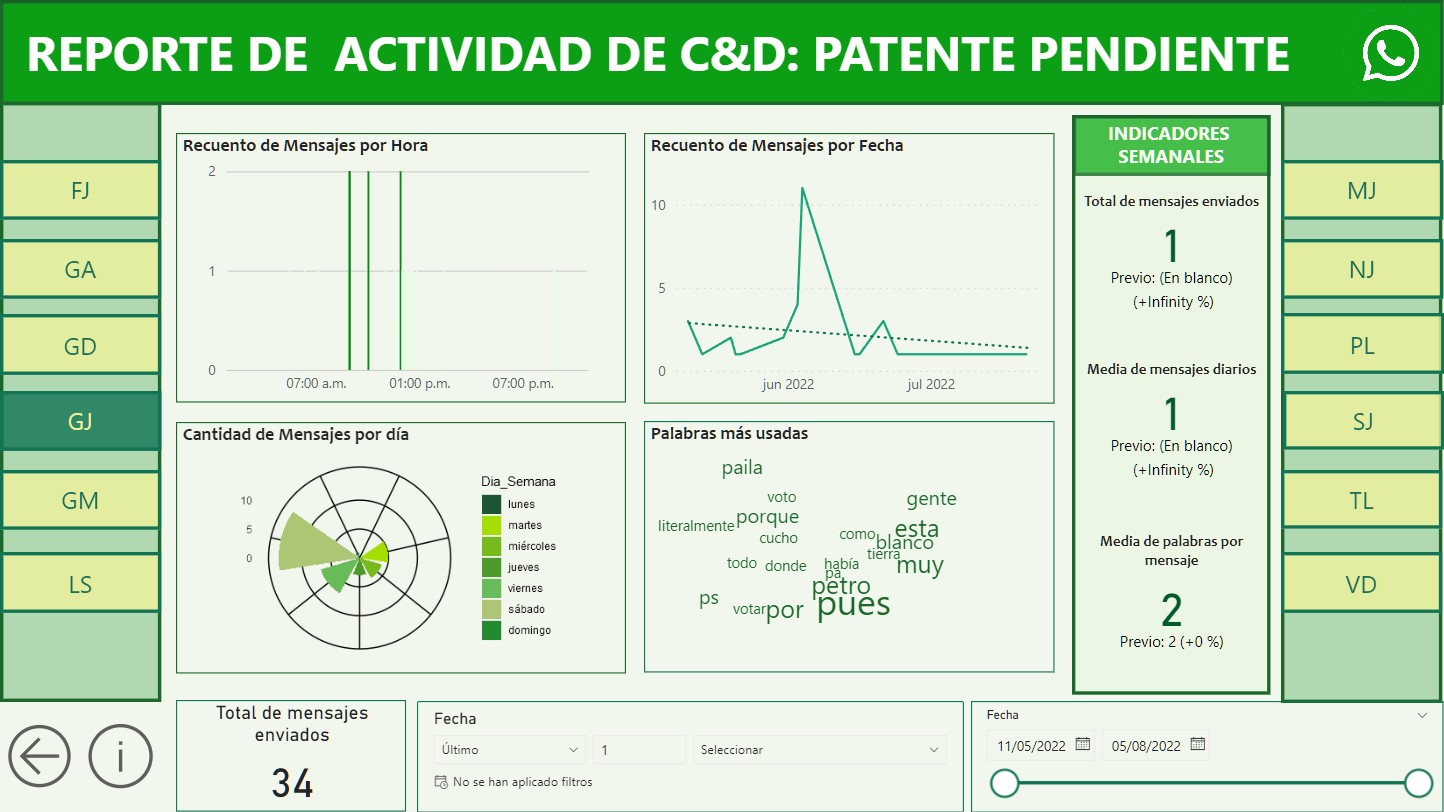

The page's visual inventory and layout, read from the dashboard file:
{"tool":"powerbi","page":{"name":"GJ","canvas":[1280,720],"ordinal":4},"visuals":[{"type":"shape","box":[0,112.6,199.5,523.2],"z":0},{"type":"shape","box":[0,0,1280,118.7],"z":1000},{"type":"image","box":[1167.2,5.8,112.8,106],"z":2000},{"type":"textbox","box":[0,24.3,1167.2,69.1],"z":3000},{"type":"shape","box":[1080,112.6,199.5,523.2],"z":4000},{"type":"slicer","fields":{"Values":["whatsapp_chat mychats.Fecha"]},"box":[419.4,635.8,440.7,85.1],"z":5000},{"type":"columnChart","title":"Recuento de Mensajes por Hora","fields":{"Category":["whatsapp_chat mychats.Hora"],"Y":["CountNonNull(whatsapp_chat mychats.Indice)"]},"box":[640.2,118.8,439.8,275.8],"z":6000},{"type":"donutChart","title":"Proporción de Sentimiento por Mensajes","fields":{"Category":["whatsapp_chat mychats.Sentimiento"],"Y":["CountNonNull(whatsapp_chat mychats.Indice)"]},"box":[199.5,394.6,440.7,241.2],"z":7000},{"type":"lineChart","title":"Recuento de Mensajes por Fecha","fields":{"Y":["CountNonNull(whatsapp_chat mychats.Indice)"],"Category":["whatsapp_chat mychats.Fecha"]},"box":[200.4,118.8,439.8,275.8],"z":8000},{"type":"actionButton","box":[0,518.7,199.5,53.2],"z":9000},{"type":"actionButton","box":[0,445.1,199.5,53.2],"z":10000},{"type":"actionButton","box":[0,374.2,199.5,53.2],"z":11000},{"type":"actionButton","box":[0,306.8,199.5,53.2],"z":12000},{"type":"actionButton","box":[0,239.4,199.5,53.2],"z":13000},{"type":"actionButton","box":[0,169.4,199.5,53.2],"z":14000},{"type":"actionButton","box":[1080.4,518.7,199.5,53.2],"z":15000},{"type":"actionButton","box":[1080.4,445.1,199.5,53.2],"z":16000},{"type":"actionButton","box":[1080.4,374.2,199.5,53.2],"z":17000},{"type":"actionButton","box":[1080.4,306.8,199.5,53.2],"z":18000},{"type":"actionButton","box":[1080.4,239.4,199.5,53.2],"z":19000},{"type":"actionButton","box":[1080.4,169.4,199.5,53.2],"z":20000},{"type":"WordCloud1447959067750","title":"Palabras más usadas","fields":{"Category":["whatsapp_chat mychats.Mensaje"],"Values":["CountNonNull(whatsapp_chat mychats.Indice)"]},"box":[640,394.7,315.2,241.4],"z":21000},{"type":"actionButton","box":[113.1,636.2,86.2,83.4],"z":22000},{"type":"card","title":"Total de mensajes enviados","fields":{"Values":["CountNonNull(whatsapp_chat mychats.Indice)"]},"box":[199.5,635.8,220.8,84.2],"z":23000},{"type":"actionButton","box":[0,638.1,75.7,80.5],"z":24000},{"type":"slicer","fields":{"Values":["whatsapp_chat mychats.Fecha"]},"box":[860.4,635.7,418.7,84.3],"z":25000},{"type":"card","title":"Media de Palabras por Mensaje","fields":{"Values":["Tabla_Medidas.Media_Palabras_Por_Mensaje"]},"box":[954.1,394.6,125,120.6],"z":25001},{"type":"card","title":"Total de Palabras enviadas","fields":{"Values":["Sum(whatsapp_chat mychats.Cantidad_Palabras)"]},"box":[953.2,515.2,125.9,120.6],"z":25002}]}

Visuals, with their boxes in screenshot pixels (x1, y1, x2, y2), scaled from the page's 1280x720 canvas onto the 1444x812 screenshot:
shape: 0 127 225 717
shape: 0 0 1443 134
image: 1317 7 1443 126
textbox: 0 27 1317 105
shape: 1218 127 1443 717
slicer - whatsapp_chat mychats.Fecha: 473 717 970 811
"Recuento de Mensajes por Hora" columnChart: 722 134 1218 445
"Proporción de Sentimiento por Mensajes" donutChart: 225 445 722 717
"Recuento de Mensajes por Fecha" lineChart: 226 134 722 445
actionButton: 0 585 225 645
actionButton: 0 502 225 562
actionButton: 0 422 225 482
actionButton: 0 346 225 406
actionButton: 0 270 225 330
actionButton: 0 191 225 251
actionButton: 1219 585 1443 645
actionButton: 1219 502 1443 562
actionButton: 1219 422 1443 482
actionButton: 1219 346 1443 406
actionButton: 1219 270 1443 330
actionButton: 1219 191 1443 251
"Palabras más usadas" WordCloud1447959067750: 722 445 1078 717
actionButton: 128 717 225 811
"Total de mensajes enviados" card: 225 717 474 811
actionButton: 0 720 85 810
slicer - whatsapp_chat mychats.Fecha: 971 717 1443 811
"Media de Palabras por Mensaje" card: 1076 445 1217 581
"Total de Palabras enviadas" card: 1075 581 1217 717
